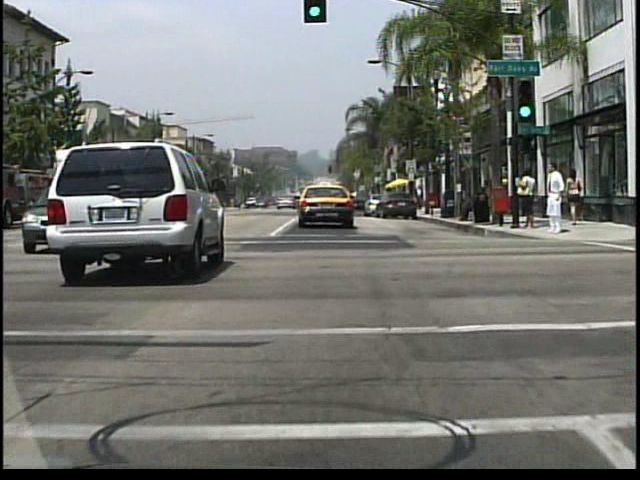person: (545, 162, 566, 235), (518, 166, 538, 233), (564, 168, 581, 226), (457, 188, 478, 223), (479, 179, 490, 220), (415, 186, 425, 213)
